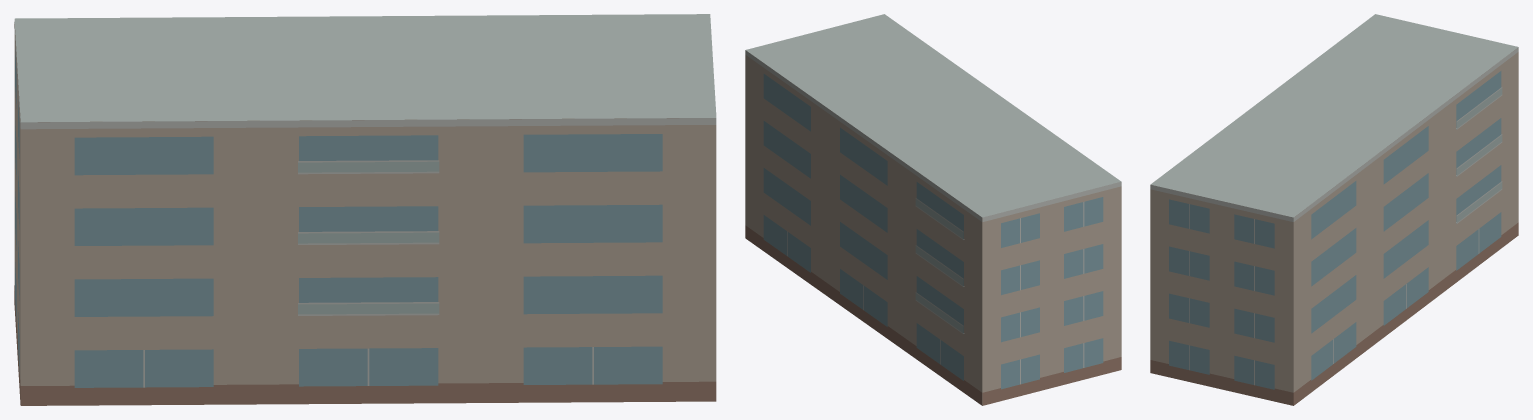
File: survey-upis-32526406.glb
3 renders of one model, left to right at view 1: azimuth 30°, elevation 25°; view 2: azimuth 150°, elevation 25°; view 3: azimuth 270°, elevation 25°, orthographic. The views are drawn at different scales.
Parts seen in each view (by area): view 1: survey-upis-32526406.tmp; view 2: survey-upis-32526406.tmp; view 3: survey-upis-32526406.tmp.
Boxes of the visible parts, x1,y1,x2,y2 form: survey-upis-32526406.tmp: [14, 14, 716, 405]; survey-upis-32526406.tmp: [745, 14, 1121, 405]; survey-upis-32526406.tmp: [1150, 14, 1518, 405].
Size of the model in its own units: 22.83 by 9.85 by 17.46.
